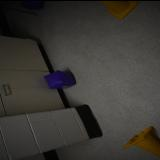cone: (122, 125, 160, 160), (97, 0, 139, 19)
cube: (43, 69, 76, 88)
